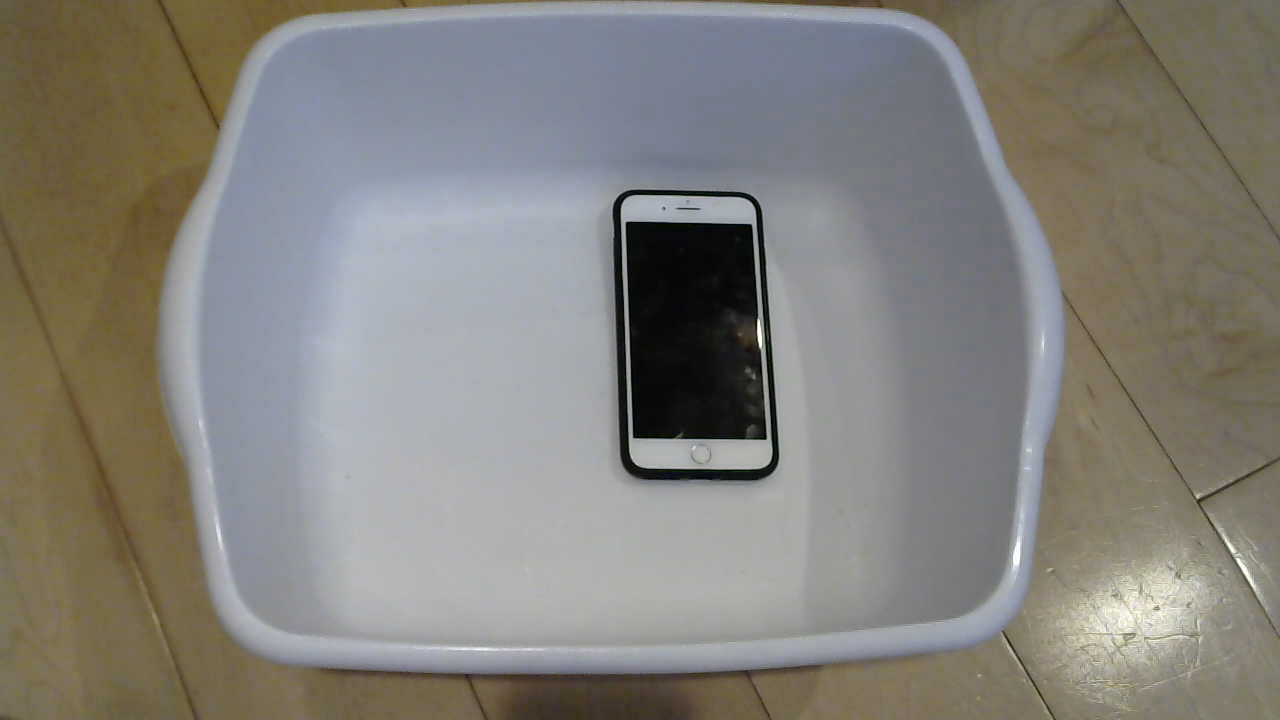phone: (601, 180, 792, 512)
